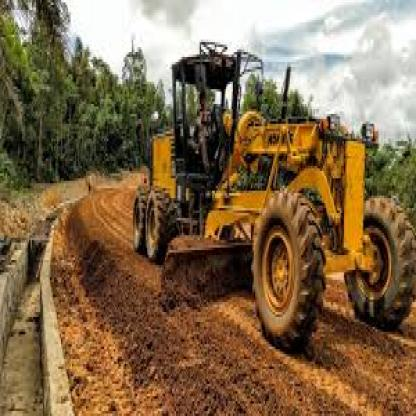bull_dozer/loader/grader: (122, 29, 415, 366)
